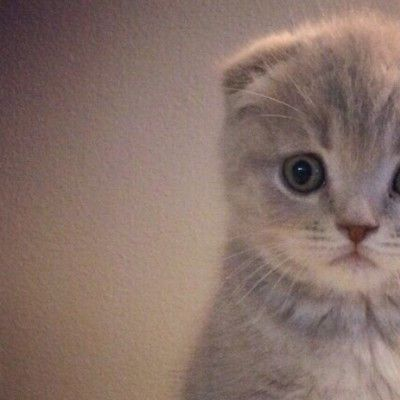cat: (190, 40, 400, 304)
